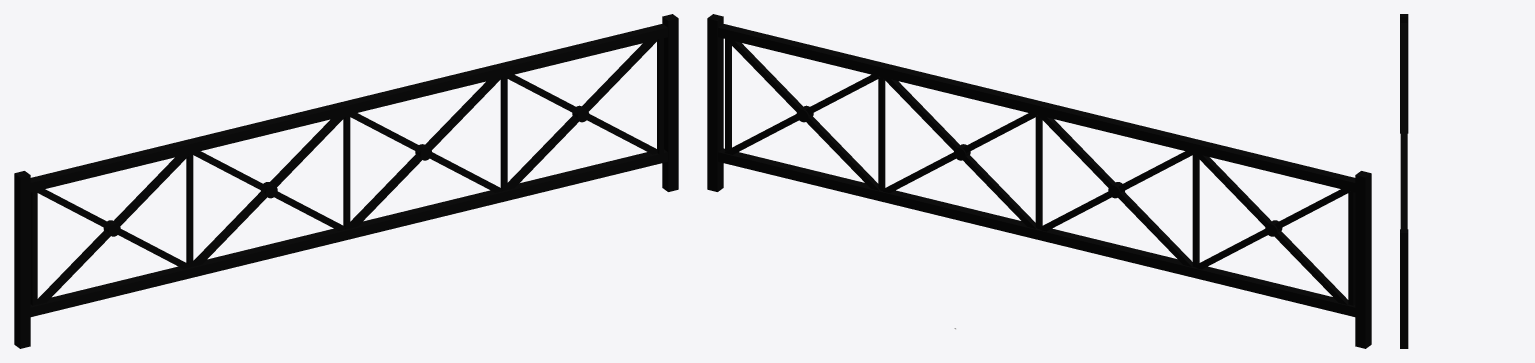
Rendered from russian_city_fence.glb.
3 renders of one model, left to right at view 1: azimuth 30°, elevation 25°; view 2: azimuth 150°, elevation 25°; view 3: azimuth 270°, elevation 25°, orthographic. The views are drawn at different scales.
Parts seen in each view (by area): view 1: node_id143_Material_164_0 (×2), node_id141_Material_158_0 (×2), node_id151_Material_170_0 (×5), node_id137_Material_207_0, node_id138_Material_207_0, node_id136_Material_207_0, node_id131_Material_207_0, node_id132_Material_207_0, node_id133_Material_207_0, node_id134_Material_207_0, node_id135_Material_207_0; view 2: node_id143_Material_164_0 (×2), node_id141_Material_158_0 (×2), node_id151_Material_170_0 (×5), node_id137_Material_207_0, node_id138_Material_207_0, node_id136_Material_207_0, node_id131_Material_207_0, node_id135_Material_207_0, node_id132_Material_207_0, node_id133_Material_207_0, node_id134_Material_207_0; view 3: node_id143_Material_164_0, node_id141_Material_158_0 (×2).
Boxes of the visible parts, x1,y1,x2,y2 form: node_id143_Material_164_0 (×2): (30,24,667,316); node_id141_Material_158_0 (×2): (14,14,678,348); node_id151_Material_170_0 (×5): (30,32,663,305); node_id137_Material_207_0: (193,116,345,266); node_id138_Material_207_0: (37,154,189,304); node_id136_Material_207_0: (349,77,501,228); node_id131_Material_207_0: (506,39,657,190); node_id132_Material_207_0: (348,113,502,192); node_id133_Material_207_0: (191,151,345,230); node_id134_Material_207_0: (35,189,189,268); node_id135_Material_207_0: (506,74,657,154); node_id143_Material_164_0 (×2): (718,24,1355,316); node_id141_Material_158_0 (×2): (707,14,1371,348); node_id151_Material_170_0 (×5): (725,39,1355,305); node_id137_Material_207_0: (1038,115,1192,266); node_id138_Material_207_0: (1196,154,1348,304); node_id136_Material_207_0: (883,77,1036,228); node_id131_Material_207_0: (726,39,879,190); node_id135_Material_207_0: (724,74,879,154); node_id132_Material_207_0: (882,113,1037,193); node_id133_Material_207_0: (1040,151,1194,231); node_id134_Material_207_0: (1195,189,1350,269); node_id143_Material_164_0: (1400,23,1407,229); node_id141_Material_158_0 (×2): (1400,14,1408,348).
Size of the model in its own units: 0.8827 by 0.2211 by 0.207.
Materials: 22 (1 with a texture image).
